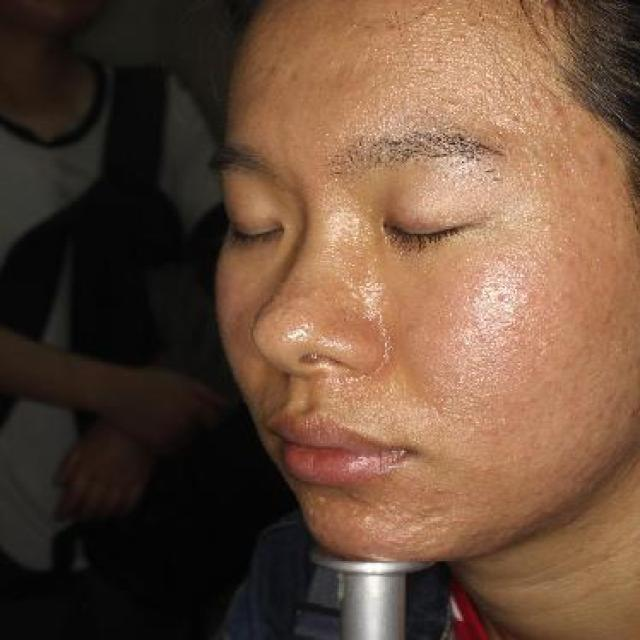nodules: (586, 146, 610, 168), (546, 100, 565, 120), (429, 54, 451, 71), (342, 15, 363, 31), (525, 96, 542, 110)
